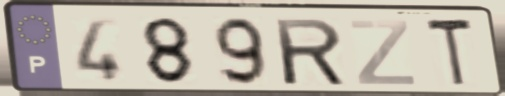4: (71, 16, 129, 85)
8: (138, 15, 198, 87)
9: (208, 15, 271, 88)
R: (270, 16, 350, 89)
T: (423, 16, 478, 91)
Z: (346, 18, 418, 87)
